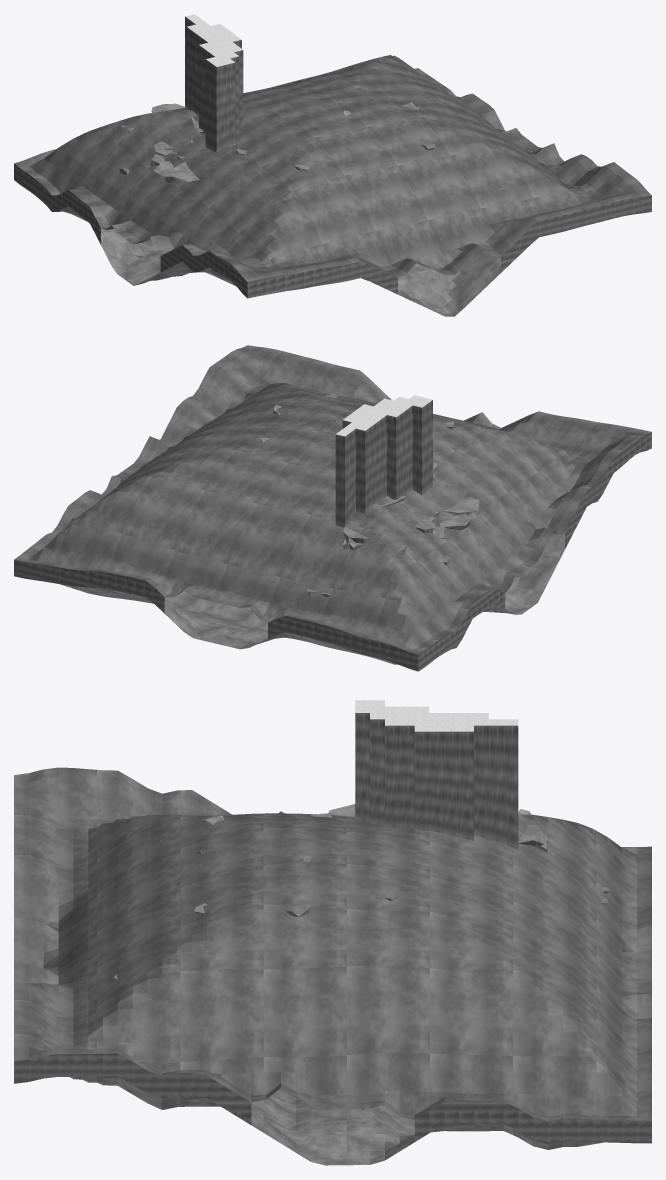
3 views of the same model, one above another, from view 1: azimuth 30°, elevation 25°; view 2: azimuth 150°, elevation 25°; view 3: azimuth 270°, elevation 25° (orthographic). The views are drawn at different scales.
Parts seen in each view (by area): view 1: CavernVault, CavernWalls, CavernFloor, CavernShaft, CavernStalactites, CavernSkyCap; view 2: CavernVault, CavernShaft, CavernWalls, CavernFloor, CavernStalactites, CavernSkyCap; view 3: CavernVault, CavernShaft, CavernWalls, CavernFloor, CavernSkyCap, CavernStalactites.
Boxes of the visible parts, <box> form: CavernVault: <box>14,55,651,281</box>; CavernWalls: <box>14,164,651,298</box>; CavernFloor: <box>58,206,501,316</box>; CavernShaft: <box>185,16,243,152</box>; CavernStalactites: <box>119,85,504,190</box>; CavernSkyCap: <box>185,14,242,66</box>; CavernVault: <box>14,345,651,654</box>; CavernShaft: <box>335,400,432,527</box>; CavernWalls: <box>14,432,651,671</box>; CavernFloor: <box>60,533,564,664</box>; CavernStalactites: <box>260,392,479,596</box>; CavernSkyCap: <box>336,395,432,436</box>; CavernVault: <box>14,767,651,1121</box>; CavernShaft: <box>355,713,518,849</box>; CavernWalls: <box>14,1053,651,1143</box>; CavernFloor: <box>70,1076,603,1165</box>; CavernSkyCap: <box>355,700,518,731</box>; CavernStalactites: <box>114,804,609,979</box>.
Bounding box in the file's own units: 92 × 46.83 × 92.
6 materials, 6 textured.
